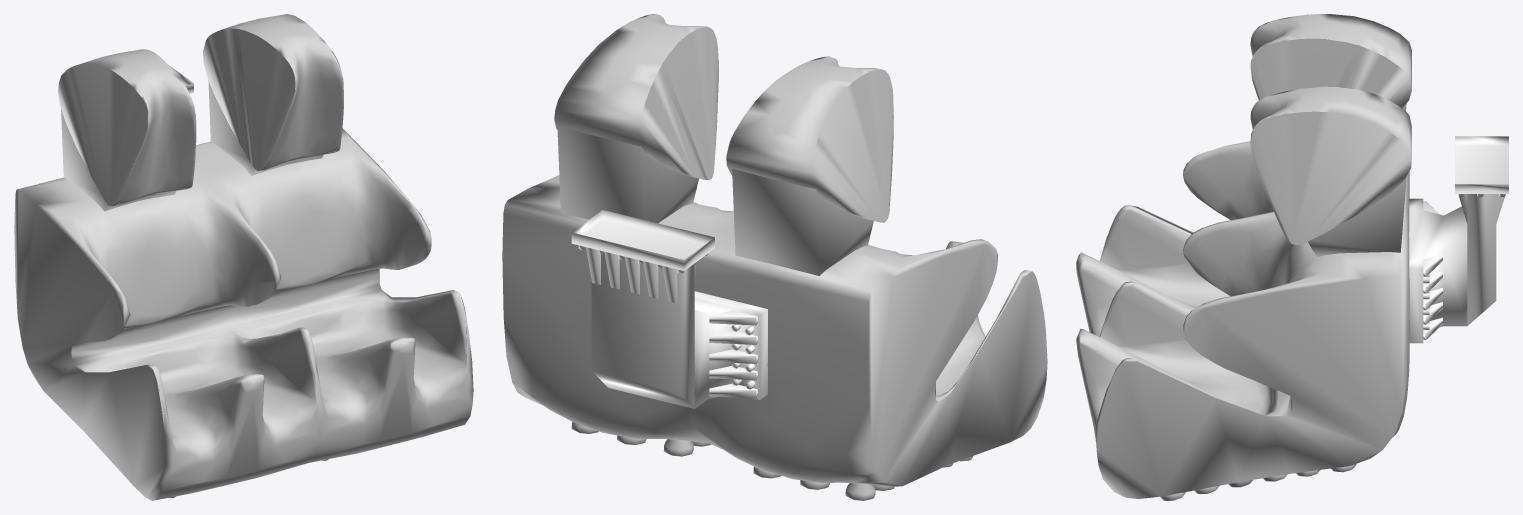
File: toppletower_sitz.fbx
3 views of the same model, side by side, from view 1: azimuth 30°, elevation 25°; view 2: azimuth 150°, elevation 25°; view 3: azimuth 270°, elevation 25° (orthographic). The views are drawn at different scales.
Visible parts, largest first — view 1: sitz; view 2: sitz, kappenleuchten; view 3: sitz, kappenleuchten.
Part boxes in pixels (x1,y1,x2,y2): sitz: (14,14,473,500); sitz: (502,14,1047,486); kappenleuchten: (571,422,972,500); sitz: (1076,14,1508,498); kappenleuchten: (1160,464,1356,500).
Size of the model in its own units: 97.1 by 111 by 114.
